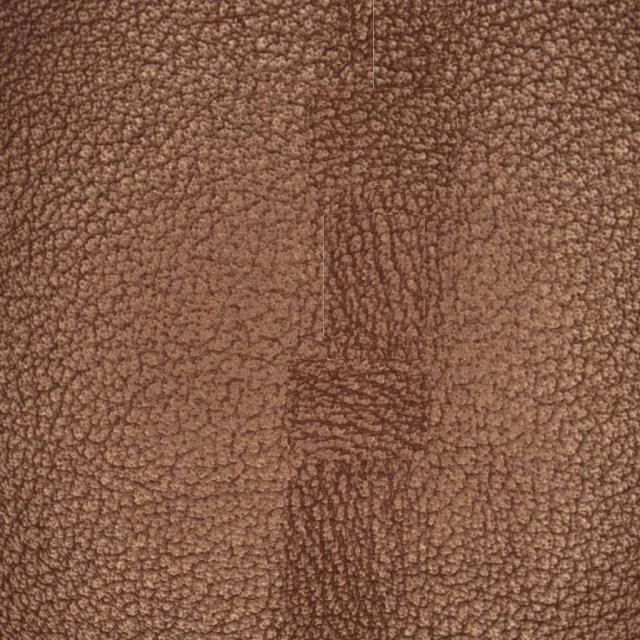Healed Injury: (275, 337, 442, 598), (317, 38, 475, 284)
